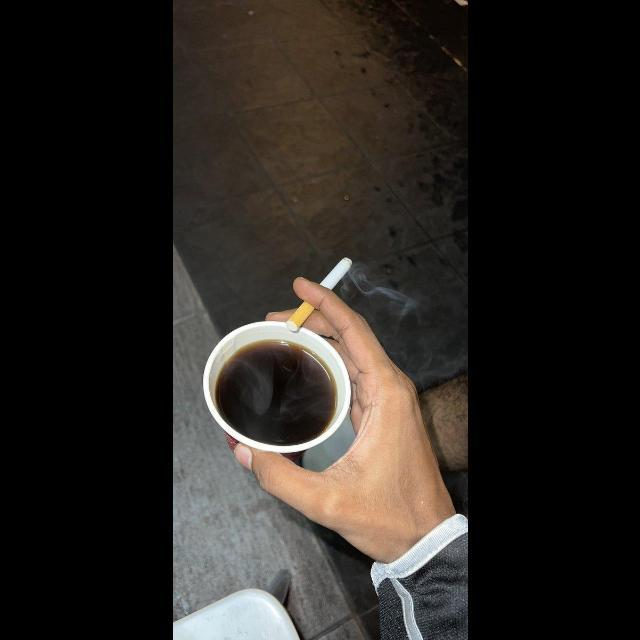rokok: (284, 254, 354, 332)
